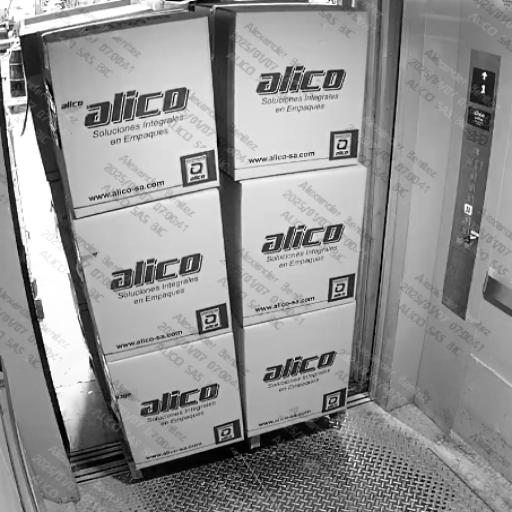Caja no amarrada: (18, 2, 421, 484)
